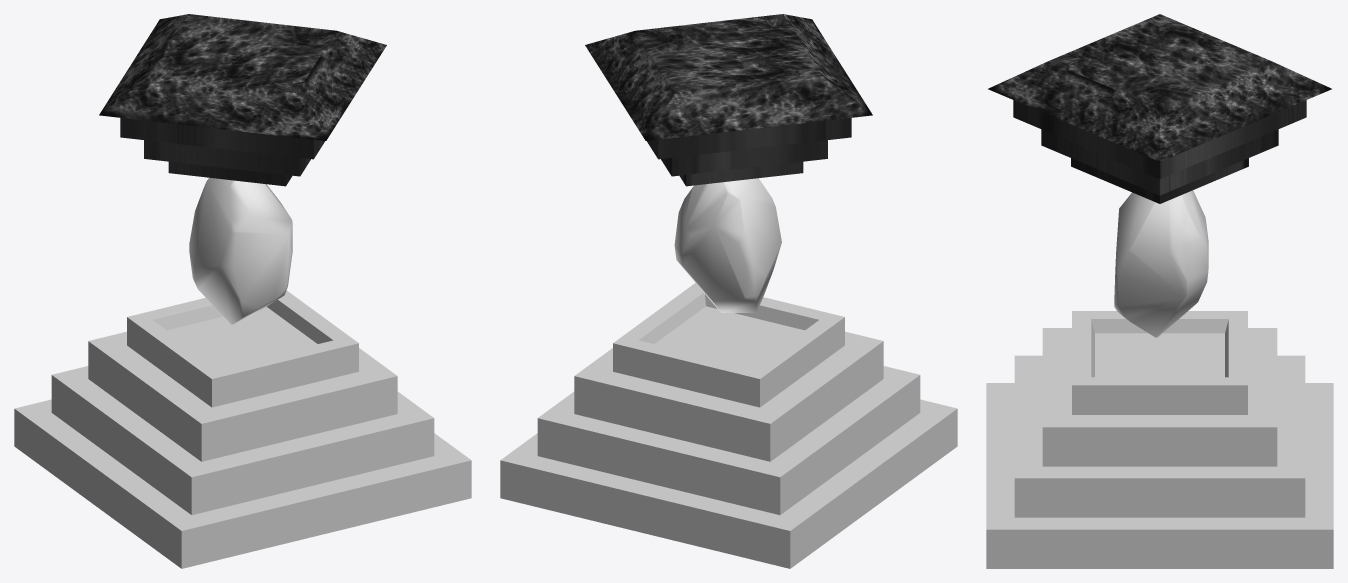
The model's file is FlameTowerLVL2.fbx.
3 views of the same model, side by side, from view 1: azimuth 30°, elevation 25°; view 2: azimuth 150°, elevation 25°; view 3: azimuth 270°, elevation 25° (orthographic). The views are drawn at different scales.
Visible parts, largest first — view 1: Cube, Cube.001, Sphere; view 2: Cube, Cube.001, Sphere; view 3: Cube, Cube.001, Sphere.
Boxes of the visible parts, x1,y1,x2,y2 form: Cube: [14, 290, 471, 568]; Cube.001: [99, 14, 386, 186]; Sphere: [189, 177, 292, 324]; Cube: [500, 283, 957, 568]; Cube.001: [585, 14, 872, 186]; Sphere: [674, 178, 781, 313]; Cube: [986, 311, 1333, 568]; Cube.001: [988, 14, 1331, 203]; Sphere: [1114, 190, 1208, 337].
Bounding box in the file's own units: 800 × 1104 × 800.
Materials: 3 (1 with a texture image).
